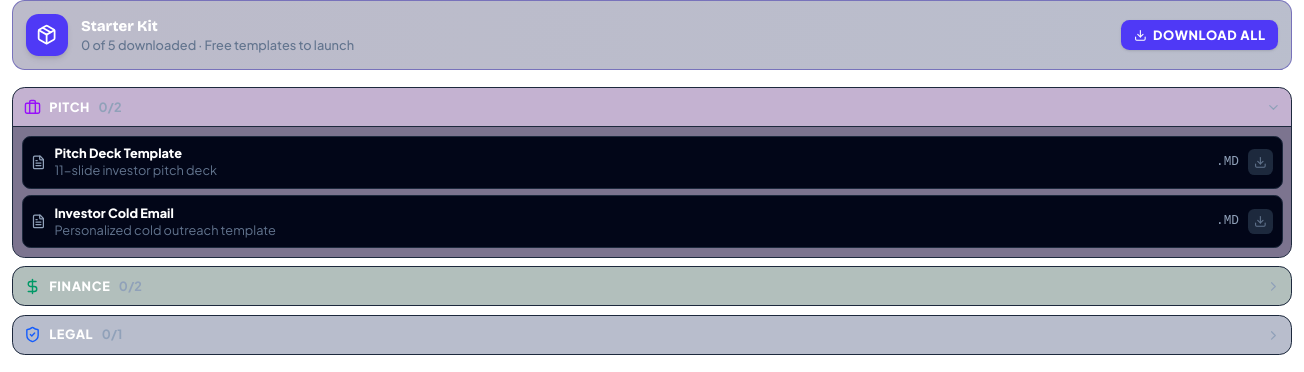
Test: StarterKit › collapses category when clicked again
Click the text "Pitch" at (70, 107), box [49,99,90,116]
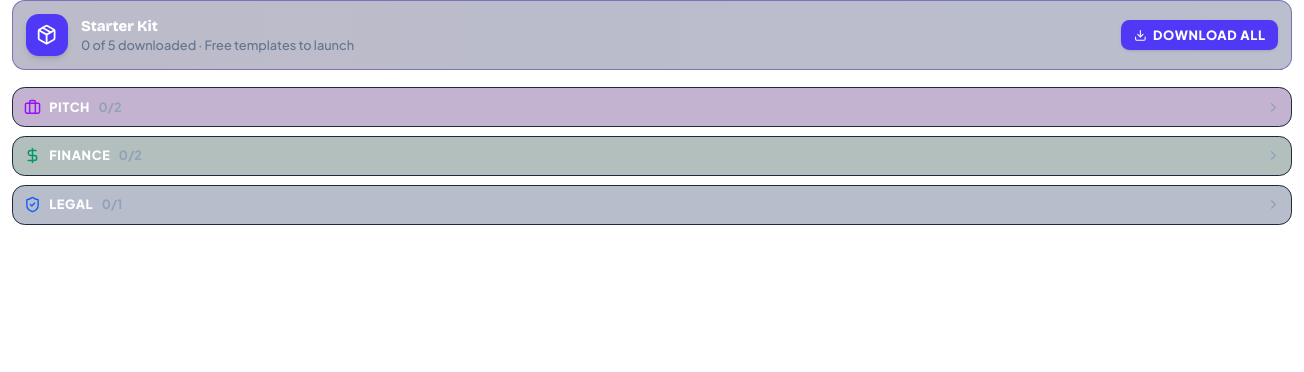
Check: the text "Pitch Deck Template" is gone
